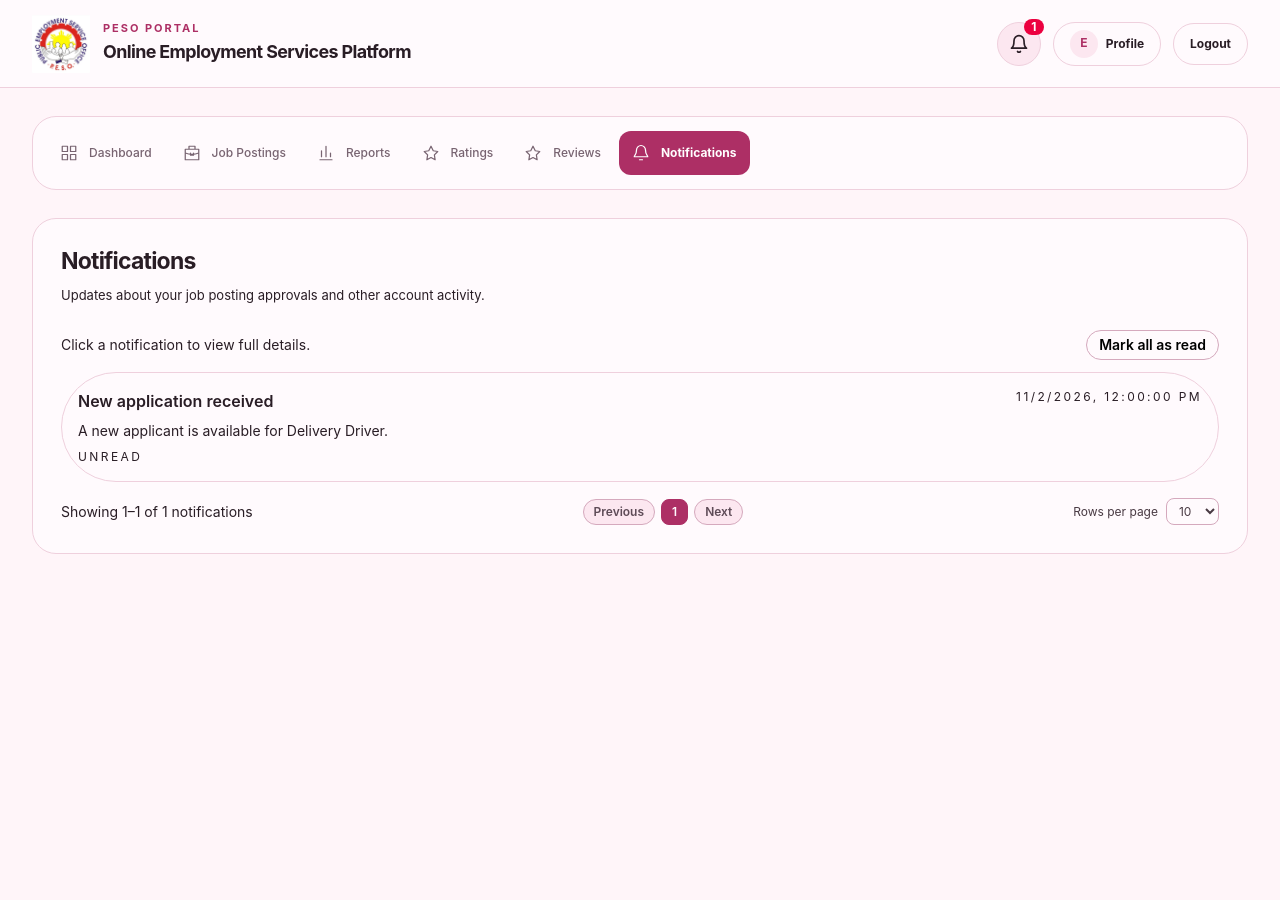
Test: notification destinations › opens the employer applicant view from the link inside notification details
This screenshot has width=1280, height=900.
Click the button "New application received": (176, 401) [61, 372, 1219, 482]
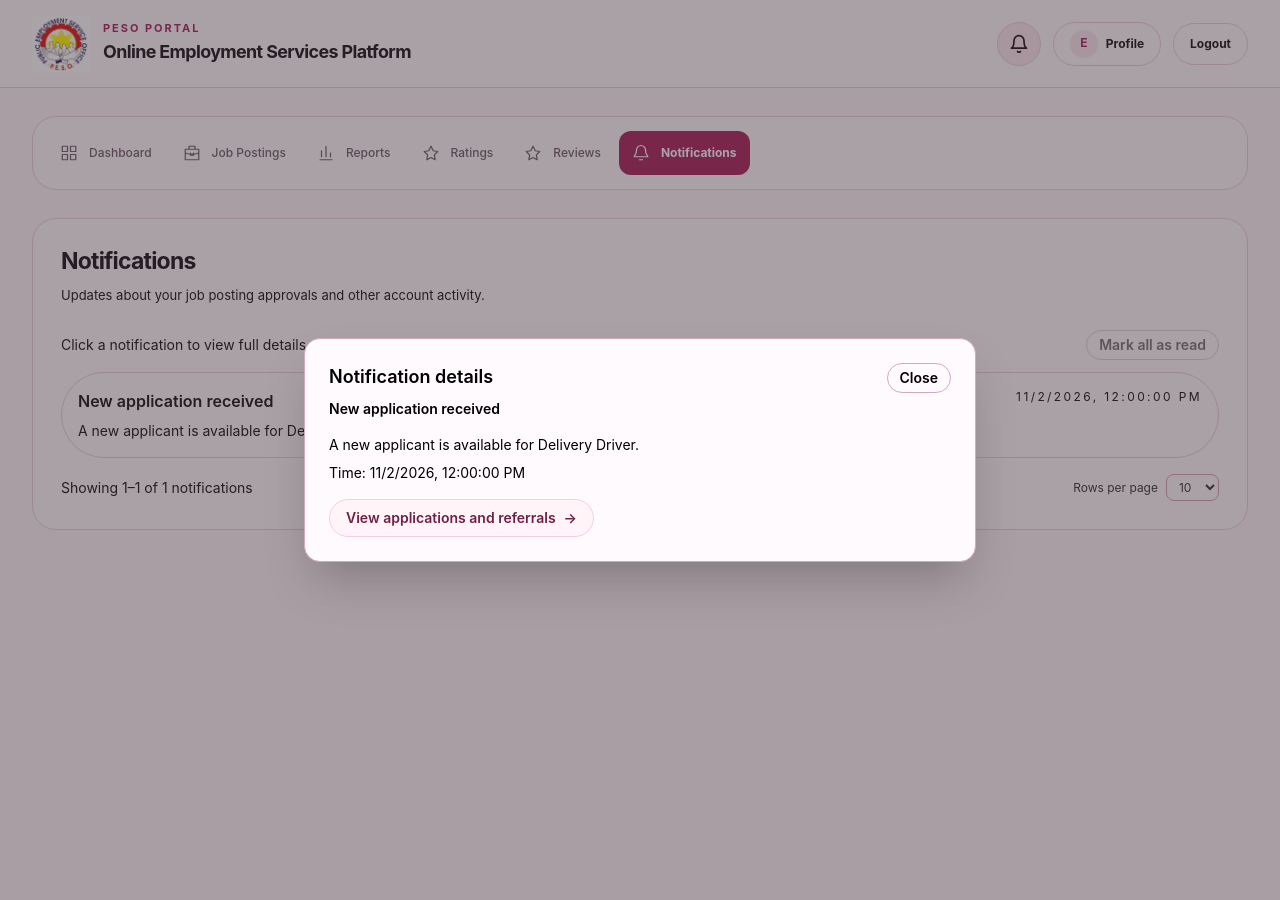
Click the link "View applications and referrals →": (461, 518) [329, 499, 594, 537]
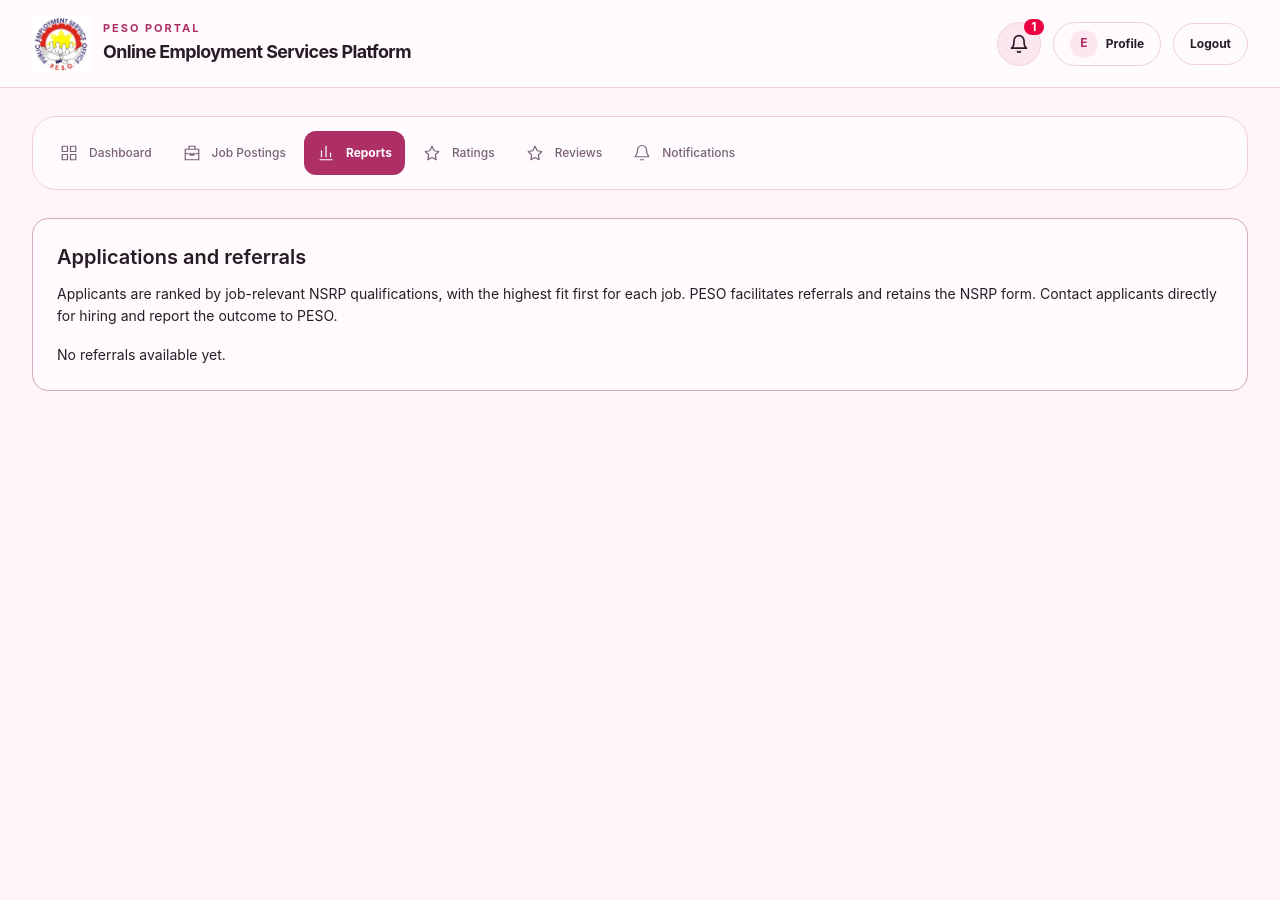
Check: the heading "Applications and referrals" is shown, box [57, 245, 306, 269]
Check: the heading "Notification details" is gone
